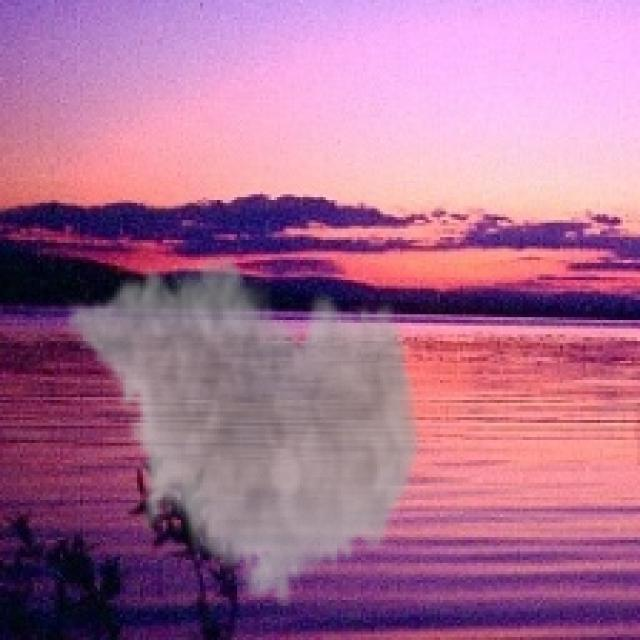Smoke: (63, 242, 426, 614)
